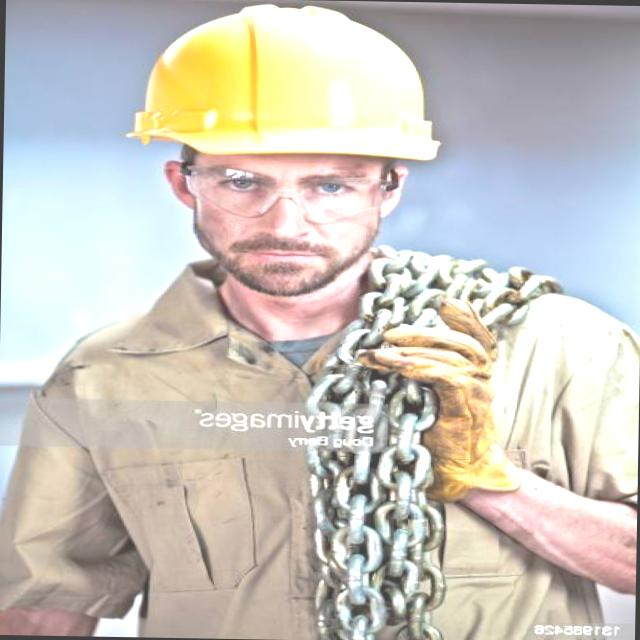goggles: (174, 164, 402, 229)
helmet: (92, 0, 465, 167)
vest: (1, 247, 636, 640)
